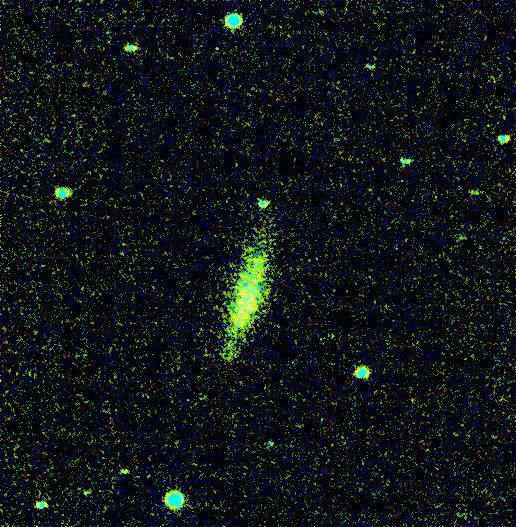star: (229, 310, 259, 340)
